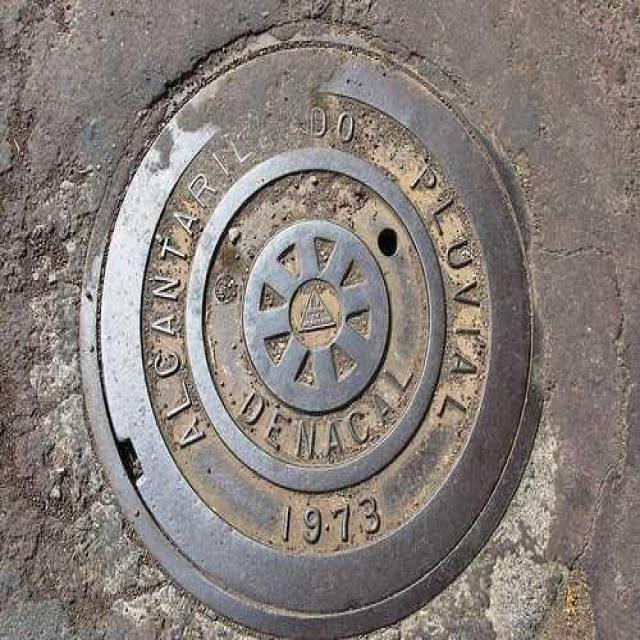manhole: (79, 29, 547, 638)
